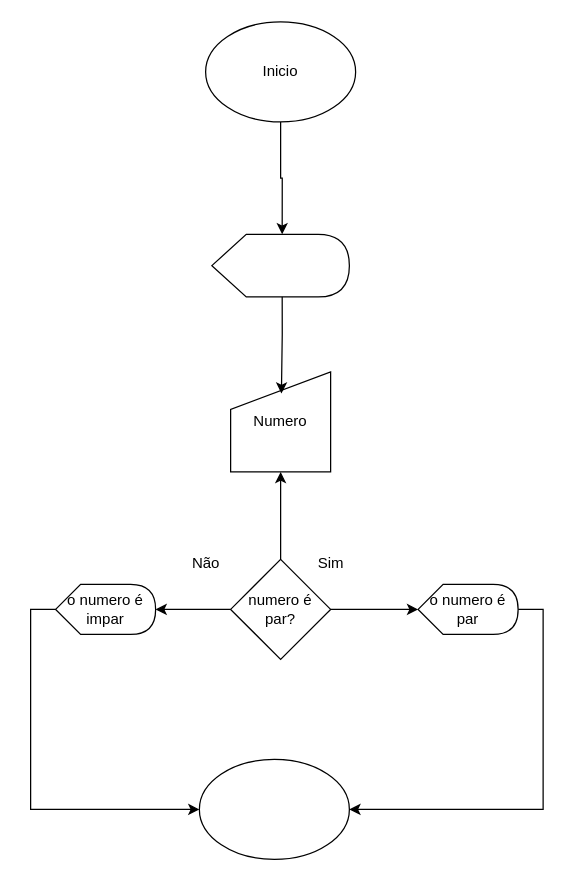
The diagram is 575 pixels wide and 881 high, and some of its shapes have lost their labels. Here are the shapes that lost their labels. From the top down, the centre of each, then its label:
(280,265): Digite um número
(273,808): fim
